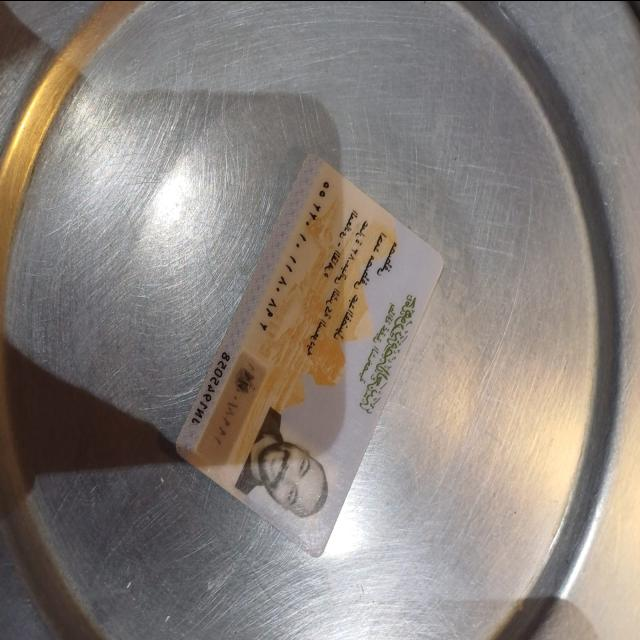id_card: (166, 138, 452, 567)
